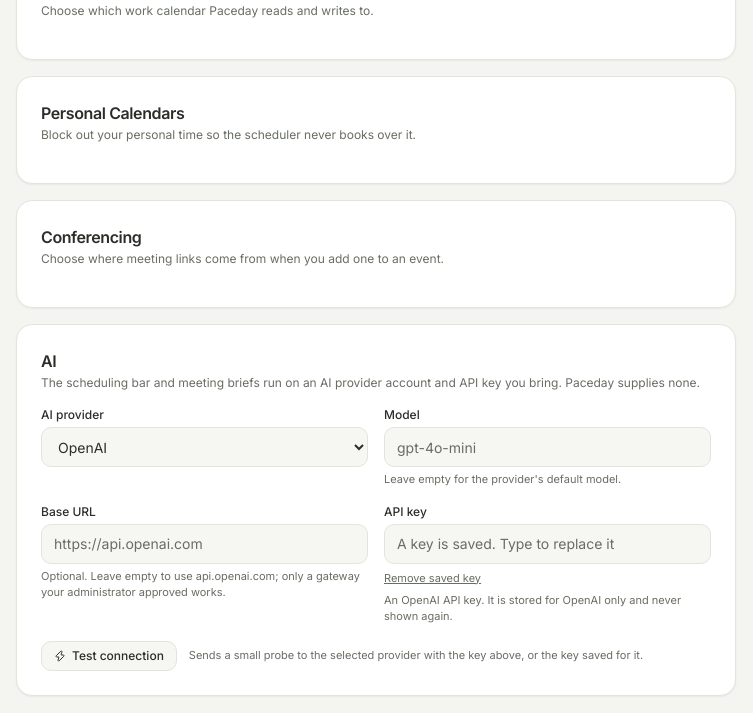
Scenario: PAC-74 the API key field › AC-8 and AC-9: without the per-provider map, another provider shows no key; the saved one shows its key again
(page scrolled)
expect the password field labelled "API key" is shown: met, box x1=384 y1=524 x2=711 y2=564
Select "Anthropic" in the dropdown labelled "AI provider" at (204, 447), box x1=41 y1=427 x2=368 y2=467
(page scrolled)
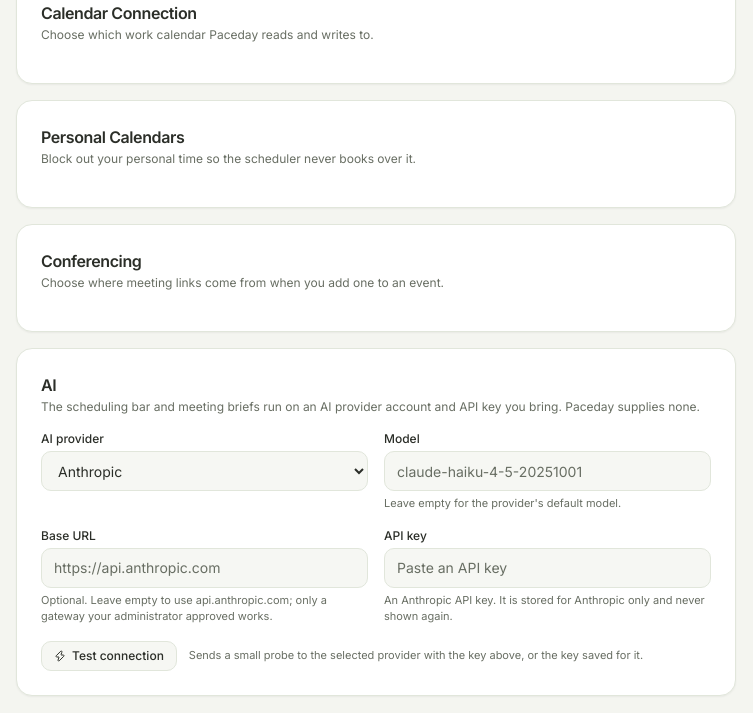
expect the button "Remove saved key" is gone: met
Select "OpenAI" in the dropdown labelled "AI provider" at (204, 471), box x1=41 y1=451 x2=368 y2=491
(page scrolled)
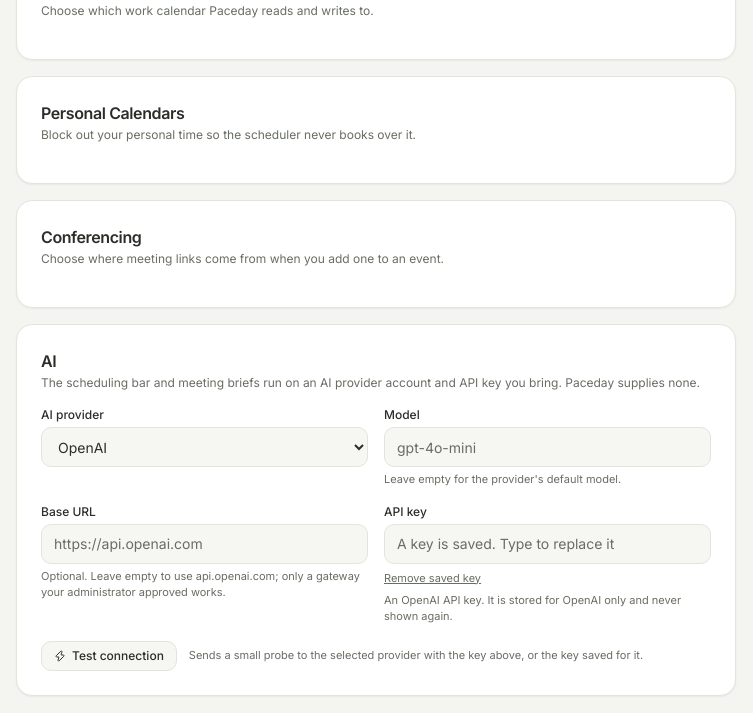
expect the button "Remove saved key" is shown: met, box x1=384 y1=570 x2=481 y2=586
